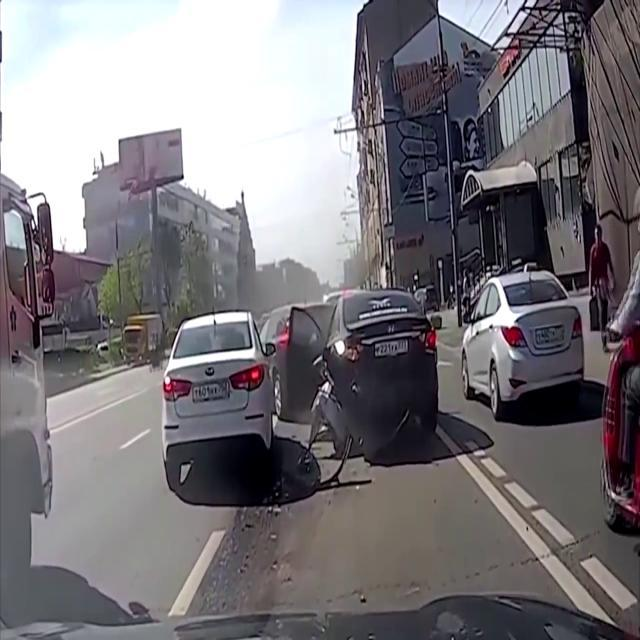normal: (483, 246, 604, 473), (134, 294, 273, 469)
single accident: (287, 299, 449, 486)
